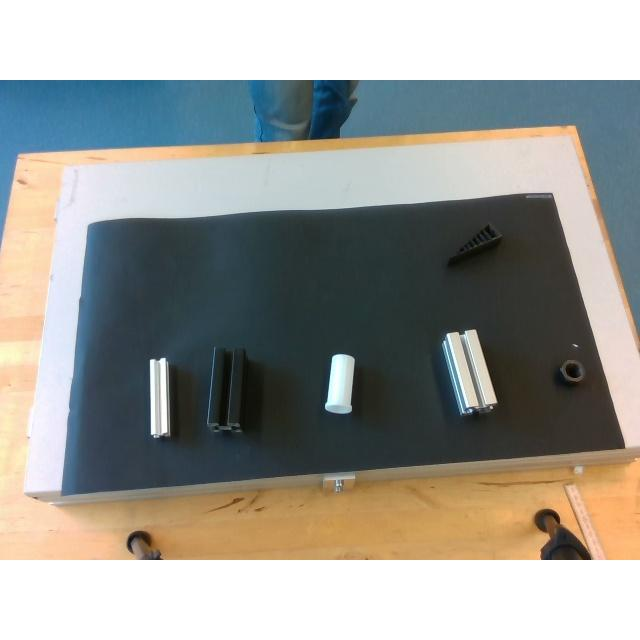F20_20_G: (146, 354, 174, 442)
M20: (558, 357, 586, 388)
S40_40_B: (208, 346, 245, 429)
S40_40_G: (442, 329, 494, 413)
Spacer: (323, 352, 357, 416)
